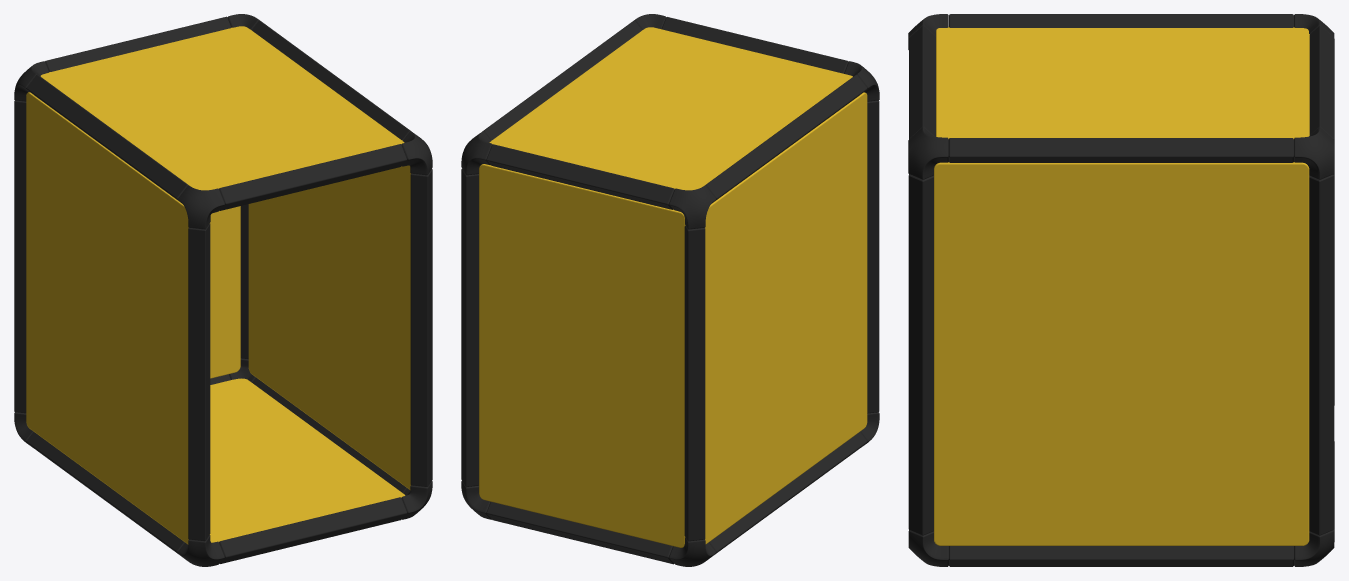
3 views of the same model, side by side, from view 1: azimuth 30°, elevation 25°; view 2: azimuth 150°, elevation 25°; view 3: azimuth 270°, elevation 25° (orthographic). The views are drawn at different scales.
Visible parts, largest first — view 1: 229x329x374; view 2: 229x329x374; view 3: 229x329x374.
Part boxes in pixels (<box>): 229x329x374: <box>14,14,432,566</box>; 229x329x374: <box>461,14,879,566</box>; 229x329x374: <box>908,14,1334,566</box>.
Bounding box in the file's own units: 0.3067 × 0.4516 × 0.4063.
